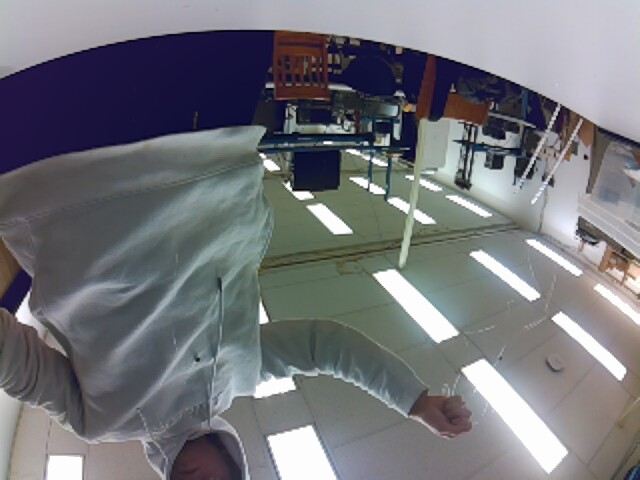mosquito: (193, 353, 201, 365), (497, 353, 503, 363), (582, 153, 589, 161)
